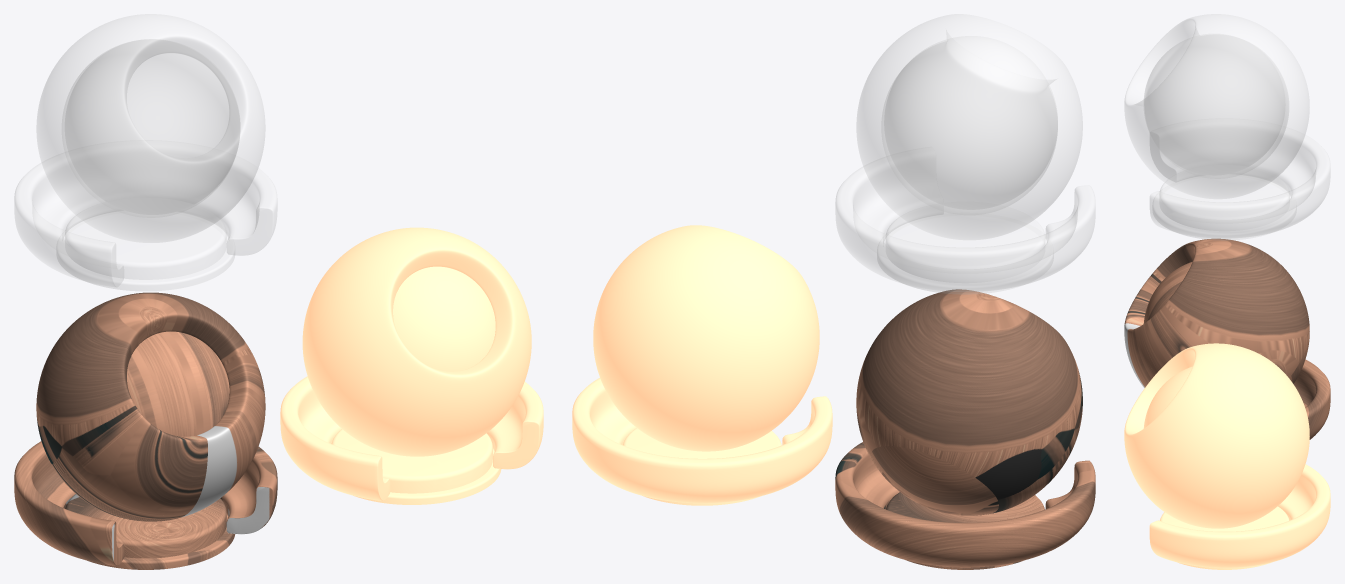
File: AnisotropyBarnLamp.glb_converted.mtlx.separate.glb
The picture shows the model from 3 angles, left to right: view 1: azimuth 30°, elevation 25°; view 2: azimuth 150°, elevation 25°; view 3: azimuth 270°, elevation 25°; orthographic projection. The views are drawn at different scales.
Visible parts, largest first — view 1: Preview_Mesh_material_2, Preview_Mesh, Preview_Mesh_material_1, Calibration_Mesh_material_2, Calibration_Mesh, Calibration_Mesh_material_1; view 2: Preview_Mesh_material_1, Preview_Mesh, Preview_Mesh_material_2, Calibration_Mesh_material_2, Calibration_Mesh, Calibration_Mesh_material_1; view 3: Preview_Mesh_material_2, Preview_Mesh_material_1, Calibration_Mesh_material_2, Preview_Mesh, Calibration_Mesh_material_1, Calibration_Mesh.
Boxes of the visible parts, x1,y1,x2,y2 form: Preview_Mesh_material_2: (14,14,277,286); Preview_Mesh: (14,292,277,565); Preview_Mesh_material_1: (280,227,543,500); Calibration_Mesh_material_2: (57,39,239,290); Calibration_Mesh: (65,331,235,569); Calibration_Mesh_material_1: (331,266,501,504); Preview_Mesh_material_1: (572,225,832,503); Preview_Mesh: (835,289,1095,567); Preview_Mesh_material_2: (835,14,1095,291); Calibration_Mesh_material_2: (877,36,1057,294); Calibration_Mesh: (886,492,1044,569); Calibration_Mesh_material_1: (623,428,781,505); Preview_Mesh_material_2: (1124,14,1330,238); Preview_Mesh_material_1: (1124,343,1330,567); Calibration_Mesh_material_2: (1144,34,1296,240); Preview_Mesh: (1124,238,1330,439); Calibration_Mesh_material_1: (1143,366,1289,569); Calibration_Mesh: (1143,262,1192,323).
Bounding box in the file's own units: 4.64 × 4.59 × 2.08.
Materials: 3 (1 with a texture image).
